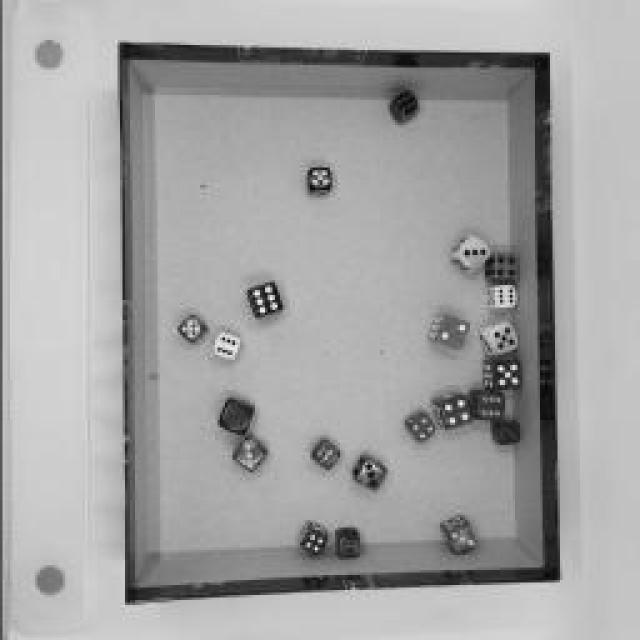dice_2: (425, 312, 470, 352), (213, 396, 255, 436)
dice_3: (448, 231, 492, 279), (438, 515, 478, 560), (228, 435, 268, 475), (349, 455, 386, 495), (489, 419, 521, 449)
dice_4: (429, 389, 471, 431), (292, 522, 330, 556), (482, 253, 520, 285), (402, 410, 436, 445), (331, 526, 361, 559)
dice_5: (476, 321, 522, 359), (478, 357, 524, 395), (175, 314, 207, 346), (305, 165, 335, 197)
dice_6: (245, 282, 285, 322), (469, 391, 506, 424), (386, 92, 419, 126), (308, 438, 340, 472), (484, 282, 518, 312), (209, 332, 241, 362)
